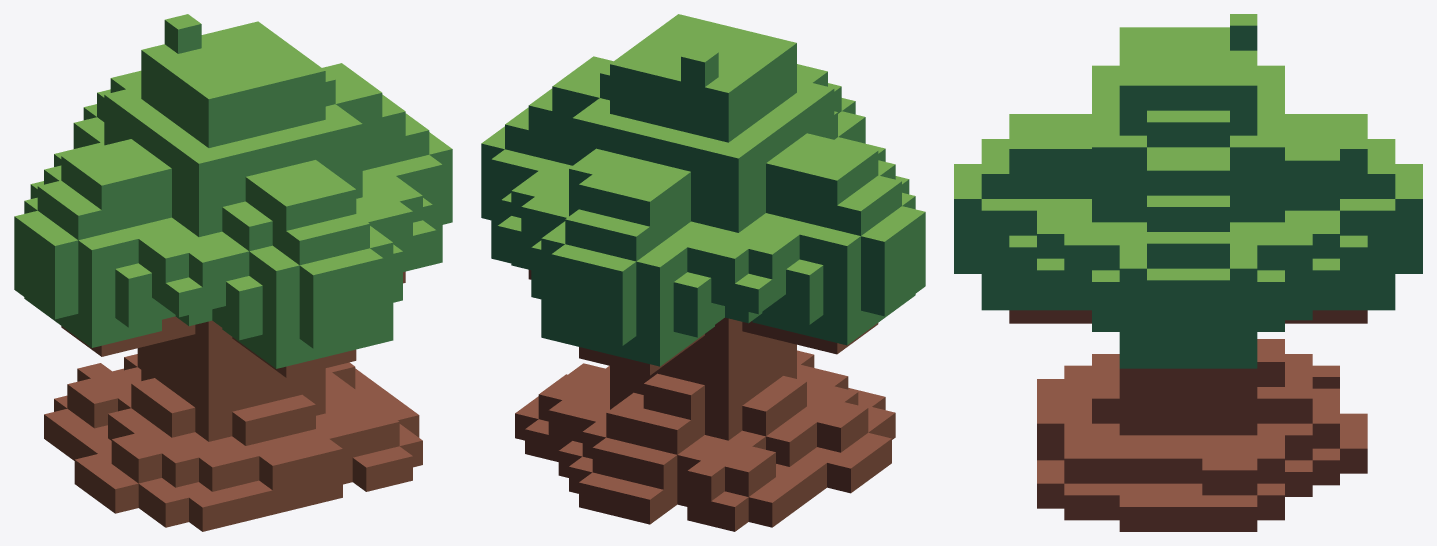
The model's file is canopy-tree.glb.
The picture shows the model from 3 angles, left to right: view 1: azimuth 30°, elevation 25°; view 2: azimuth 150°, elevation 25°; view 3: azimuth 270°, elevation 25°; orthographic projection. The views are drawn at different scales.
Bounding box in the file's own units: 4 × 4 × 4.
